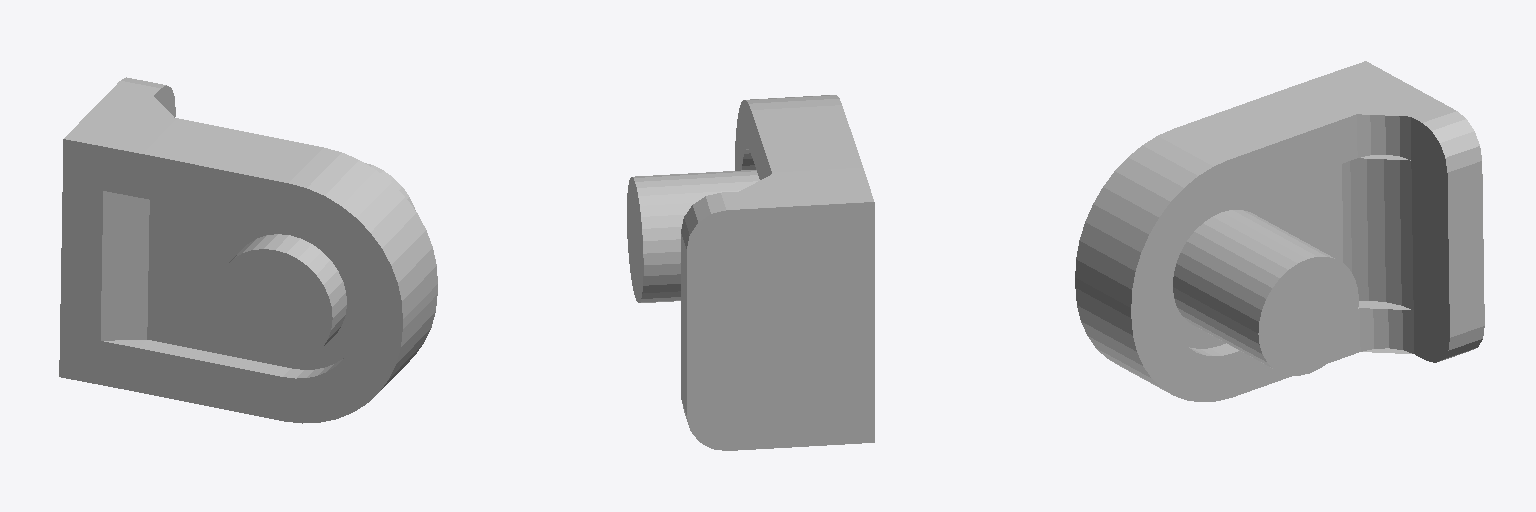
The model's file is Wrist_001.obj.
3 views of the same model, side by side, from view 1: azimuth 30°, elevation 25°; view 2: azimuth 150°, elevation 25°; view 3: azimuth 270°, elevation 25° (orthographic).
Parts seen in each view (by area): view 1: Wrist.001_Cylinder.008; view 2: Wrist.001_Cylinder.008; view 3: Wrist.001_Cylinder.008.
Part boxes in pixels (x1,y1,x2,y2): Wrist.001_Cylinder.008: (59, 77, 437, 423); Wrist.001_Cylinder.008: (627, 95, 874, 450); Wrist.001_Cylinder.008: (1075, 61, 1484, 401).
Bounding box in the file's own units: 1.72 × 1.32 × 2.